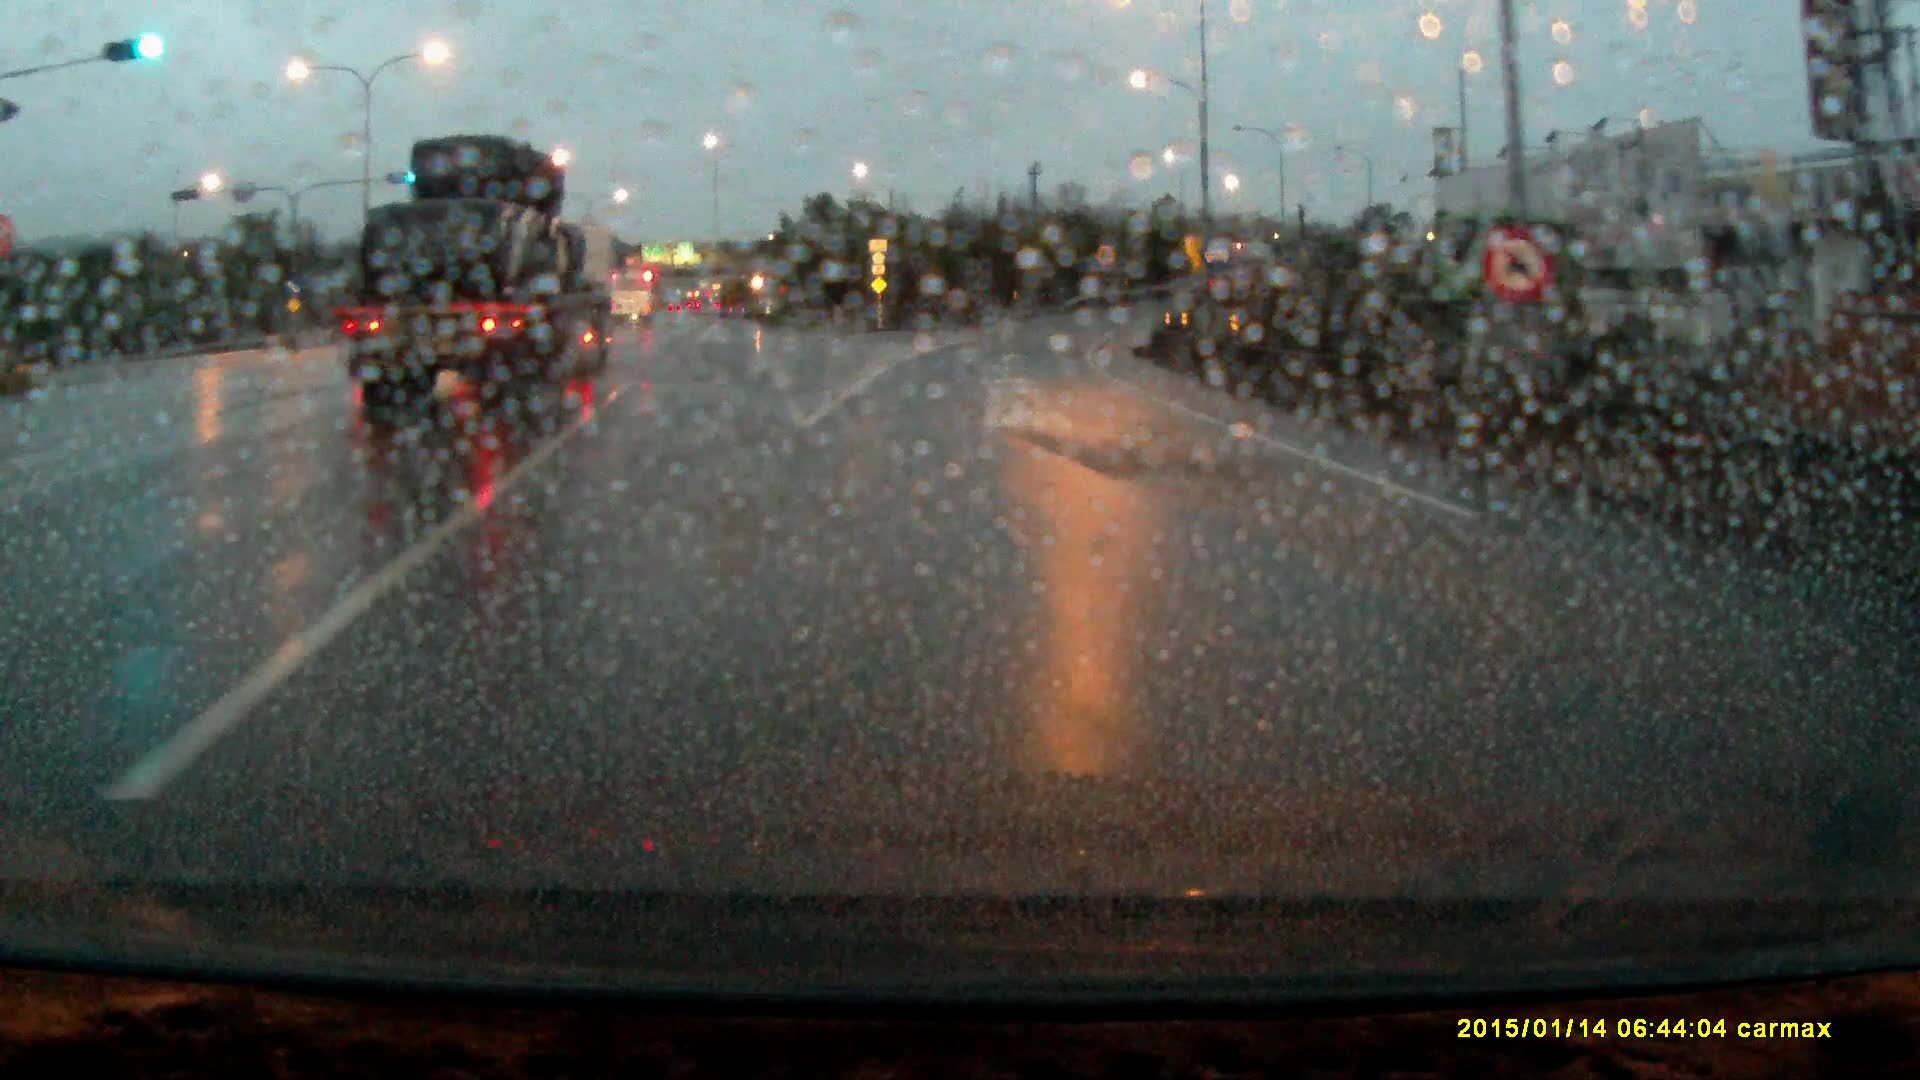vehicle: (338, 132, 621, 419), (612, 264, 665, 320)
